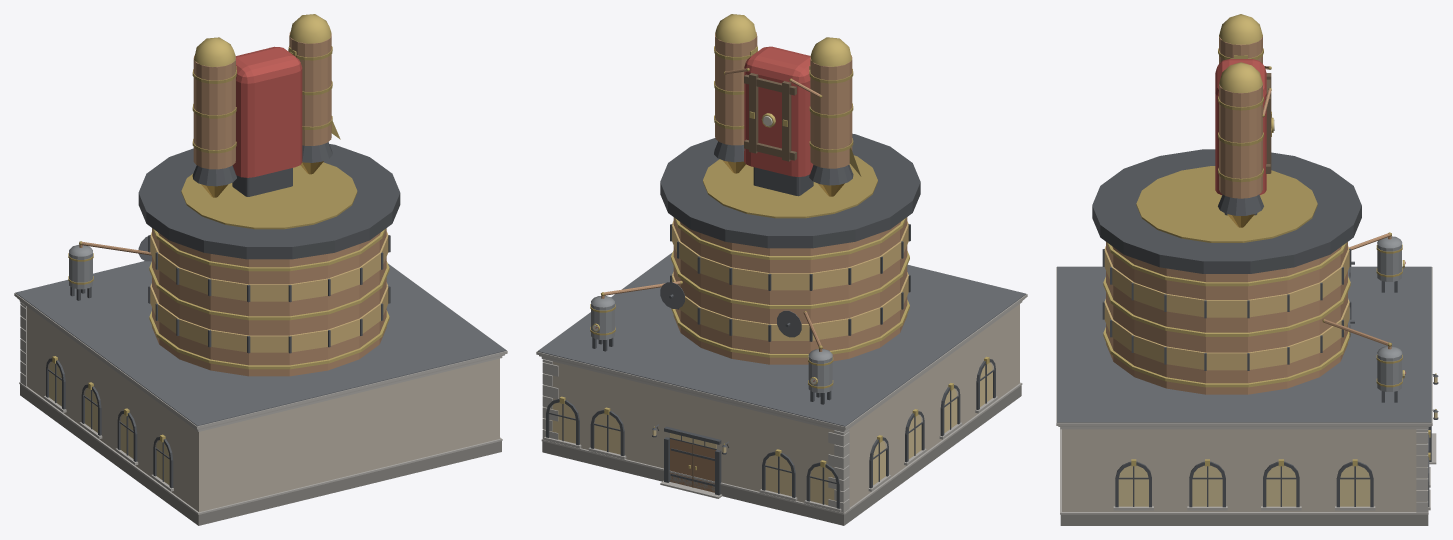
The model's file is centro-jetpack-62bb93a4.glb.
3 renders of one model, left to right at view 1: azimuth 30°, elevation 25°; view 2: azimuth 150°, elevation 25°; view 3: azimuth 270°, elevation 25°, orthographic. The views are drawn at different scales.
Visible parts, largest first — view 1: centro_jetpack_body, centro_jetpack_wall, centro_jetpack_glow, centro_jetpack_lamp; view 2: centro_jetpack_body, centro_jetpack_wall, centro_jetpack_glow, centro_jetpack_lamp; view 3: centro_jetpack_body, centro_jetpack_wall, centro_jetpack_lamp, centro_jetpack_glow.
Part boxes in pixels (x1,y1,x2,y2): centro_jetpack_body: [14, 46, 507, 514]; centro_jetpack_wall: [20, 307, 501, 525]; centro_jetpack_glow: [192, 14, 340, 197]; centro_jetpack_lamp: [49, 231, 388, 485]; centro_jetpack_body: [536, 46, 1027, 514]; centro_jetpack_wall: [542, 304, 1021, 525]; centro_jetpack_glow: [714, 14, 861, 196]; centro_jetpack_lamp: [550, 221, 992, 505]; centro_jetpack_body: [1056, 48, 1438, 514]; centro_jetpack_wall: [1060, 429, 1428, 525]; centro_jetpack_lamp: [1104, 246, 1437, 506]; centro_jetpack_glow: [1215, 14, 1274, 227].
Bounding box in the file's own units: 15.9 × 19.45 × 16.46.
